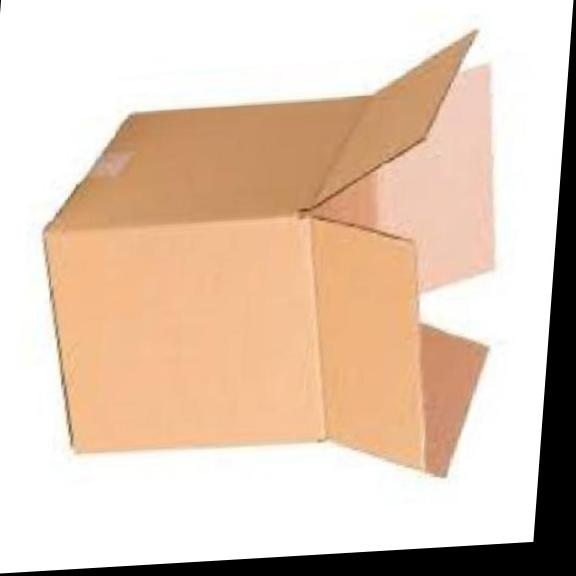Kertas: (45, 34, 493, 476)
